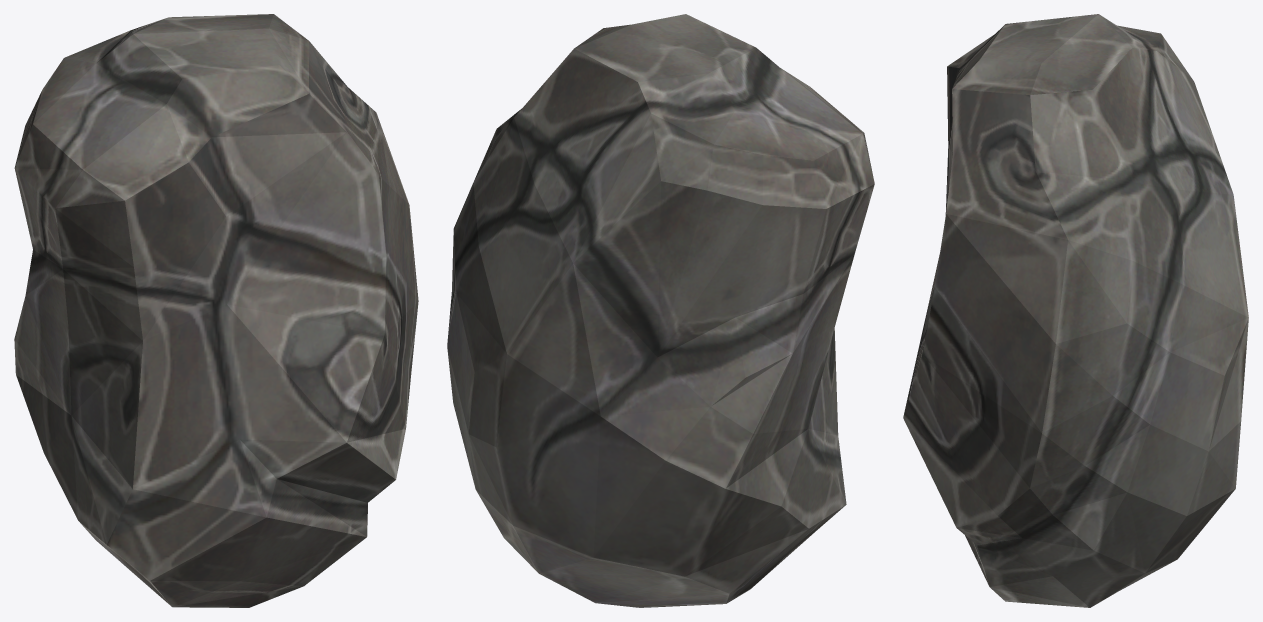
Rendered from rock2.obj.
3 renders of one model, left to right at view 1: azimuth 30°, elevation 25°; view 2: azimuth 150°, elevation 25°; view 3: azimuth 270°, elevation 25°, orthographic. The views are drawn at different scales.
Visible parts, largest first — view 1: Object.1; view 2: Object.1; view 3: Object.1.
Part boxes in pixels (<box>): Object.1: <box>14,14,418,607</box>; Object.1: <box>447,14,874,607</box>; Object.1: <box>903,14,1248,607</box>.
Size of the model in its own units: 252 by 362 by 206.
1 material, 1 textured.
